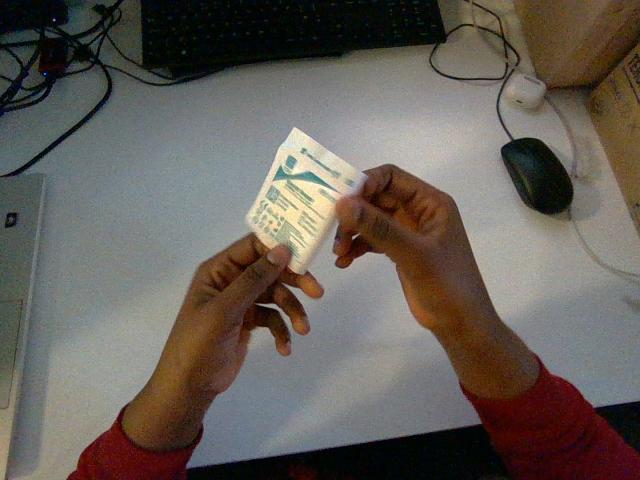gauze: (246, 128, 366, 273)
